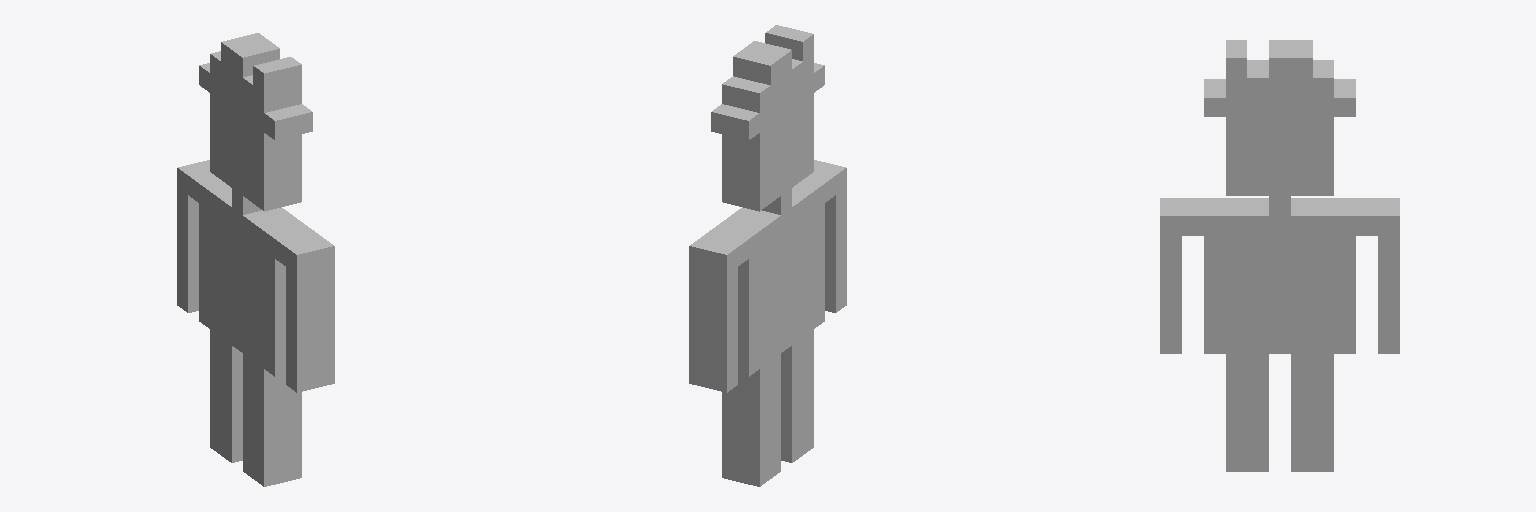
File: Stan54goda (1).obj
3 renders of one model, left to right at view 1: azimuth 30°, elevation 25°; view 2: azimuth 150°, elevation 25°; view 3: azimuth 270°, elevation 25°, orthographic.
Visible parts, largest first — view 1: object 1; view 2: object 1; view 3: object 1.
Part boxes in pixels (left/top/right/bottom): object 1: left=177, top=33, right=334, bottom=486; object 1: left=689, top=25, right=846, bottom=486; object 1: left=1160, top=40, right=1399, bottom=471.
Size of the model in its own units: 0.2 by 2.1 by 1.1.